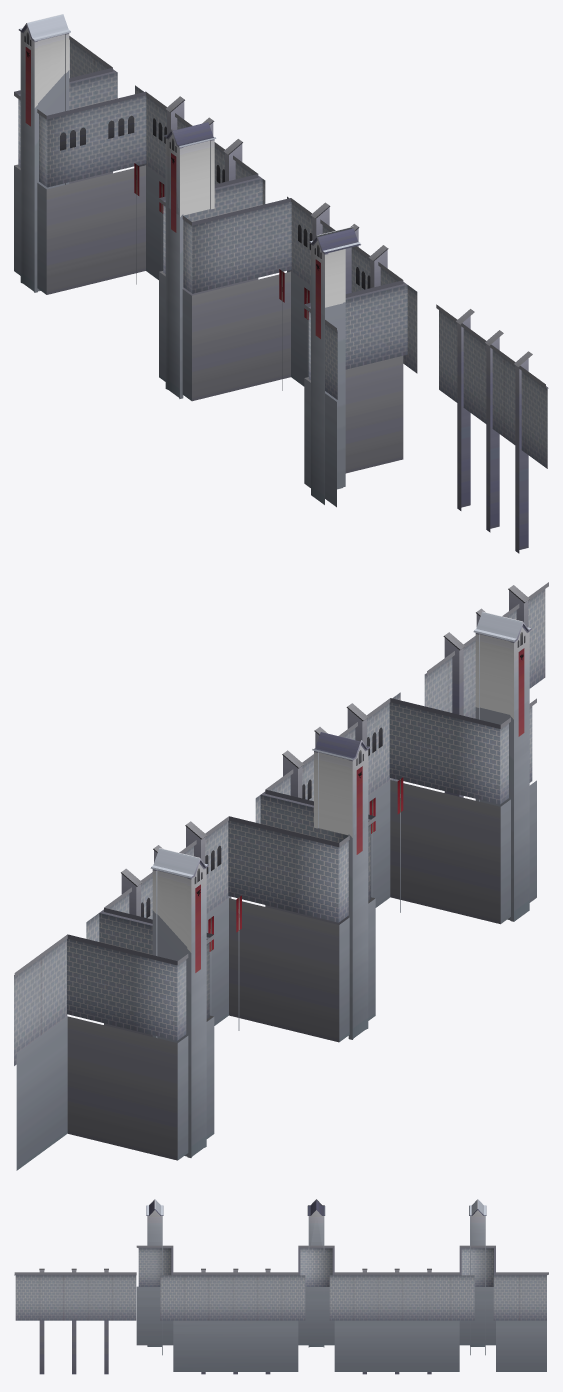
The model's file is FX_CH0156_Ex01_Motion_BG_03.fbx.
3 renders of one model, top to bottom at view 1: azimuth 30°, elevation 25°; view 2: azimuth 150°, elevation 25°; view 3: azimuth 270°, elevation 25°, orthographic. The views are drawn at different scales.
Visible parts, largest first — view 1: FX_MESH_CH0156_BG_Obj_02; view 2: FX_MESH_CH0156_BG_Obj_02; view 3: FX_MESH_CH0156_BG_Obj_02.
Part boxes in pixels (bbox=[...]): FX_MESH_CH0156_BG_Obj_02: bbox=[14, 14, 548, 553]; FX_MESH_CH0156_BG_Obj_02: bbox=[14, 582, 548, 1170]; FX_MESH_CH0156_BG_Obj_02: bbox=[14, 1199, 548, 1374].
Bounding box in the file's own units: 3.49 × 7.86 × 25.7.
1 material, 1 textured.
